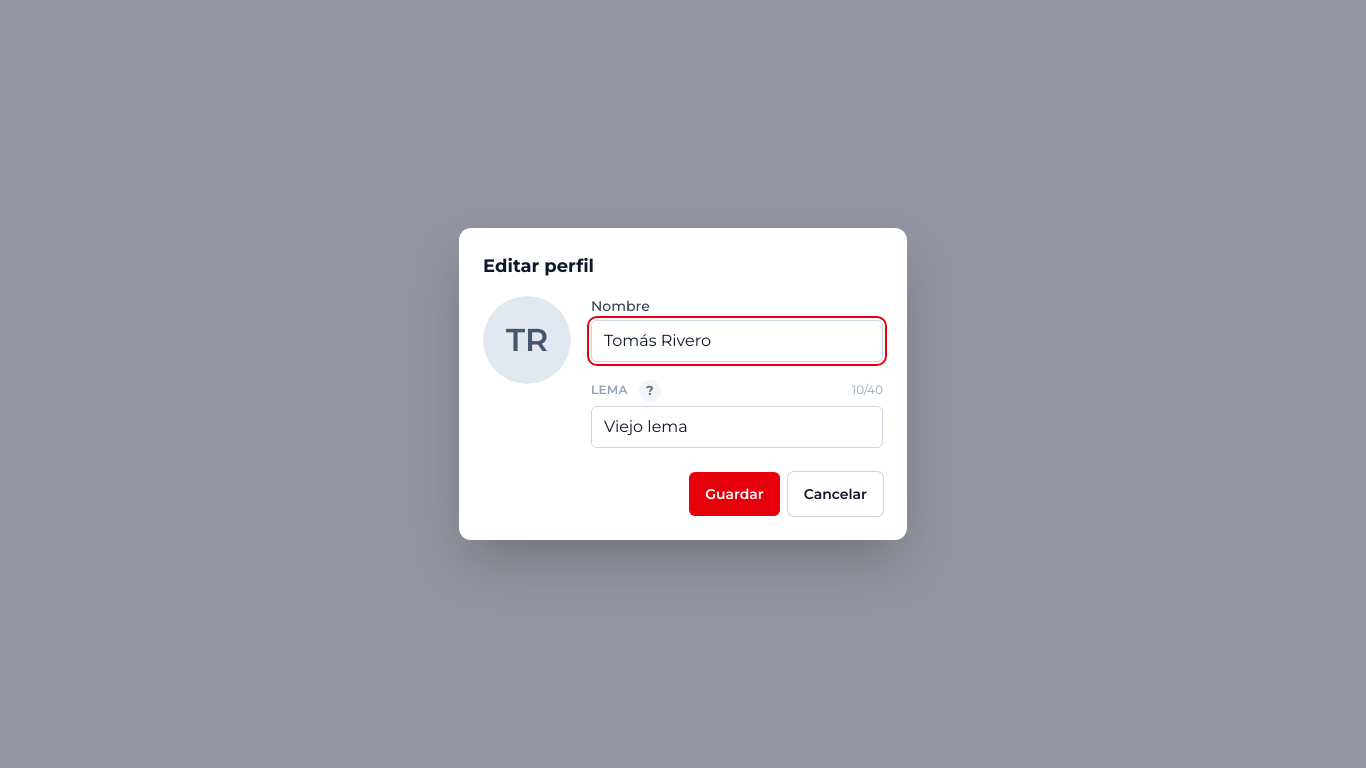
Test: EditProfileModal › si falla el guardado, el popup se queda abierto y muestra el error
Replace the text in the field showing "Tomás Rivero" with "Otro nombre": (737, 341) 591,320 -> 883,362
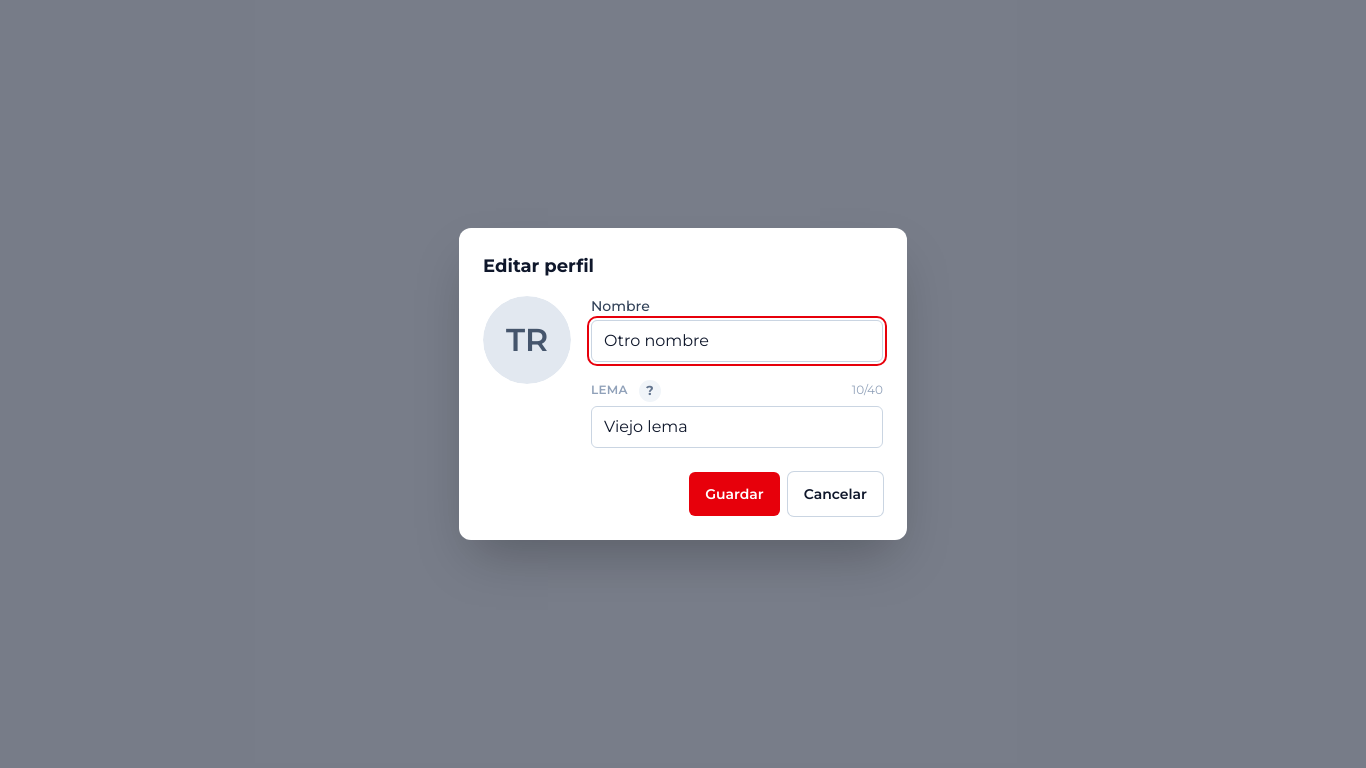
Click the button "Guardar": (734, 494) 689,472 -> 780,516
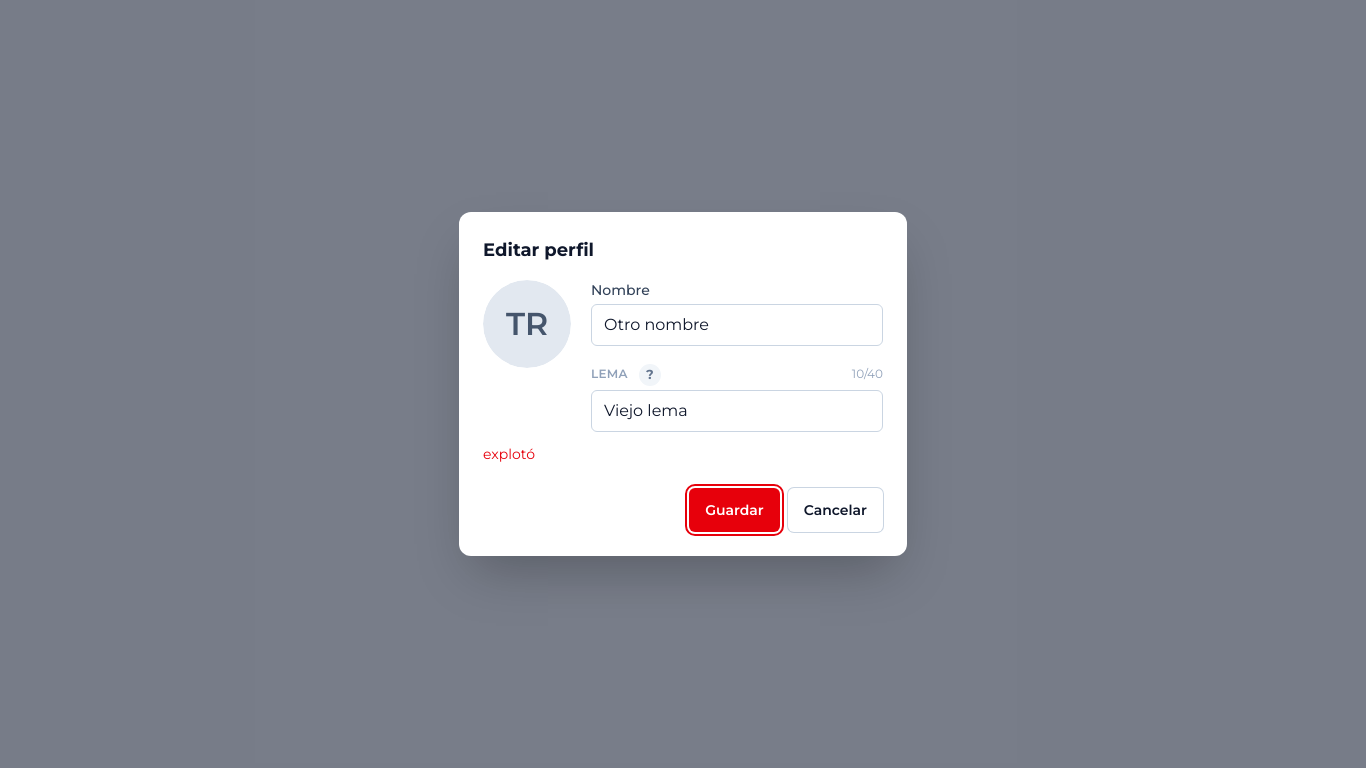
Expected: the text "explotó" is shown, 483,445 -> 535,463
